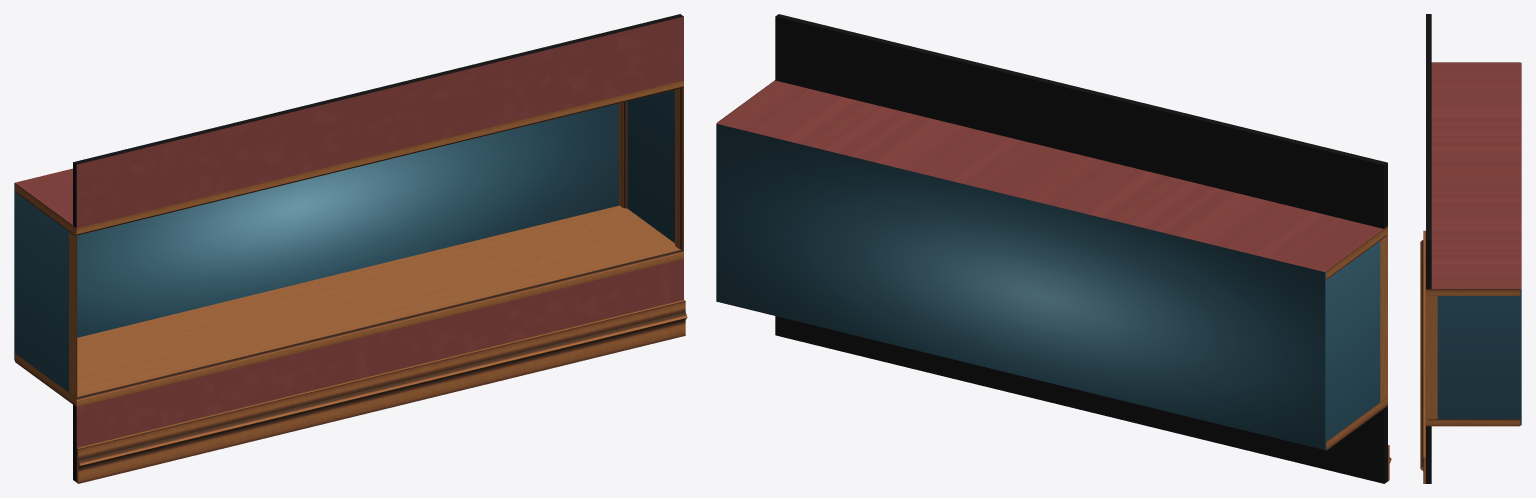
File: Wall_Window_DoubleDisplay_A_06.FBX
3 views of the same model, side by side, from view 1: azimuth 30°, elevation 25°; view 2: azimuth 150°, elevation 25°; view 3: azimuth 270°, elevation 25° (orthographic). The views are drawn at different scales.
Parts seen in each view (by area): view 1: Wall_Window Display; view 2: Wall_Window Display; view 3: Wall_Window Display.
Boxes of the visible parts, box(x1,y1,x2,y2) form: Wall_Window Display: box(14, 14, 687, 483); Wall_Window Display: box(716, 14, 1391, 483); Wall_Window Display: box(1420, 14, 1521, 483).
Bounding box in the file's own units: 1000 × 500 × 189.
